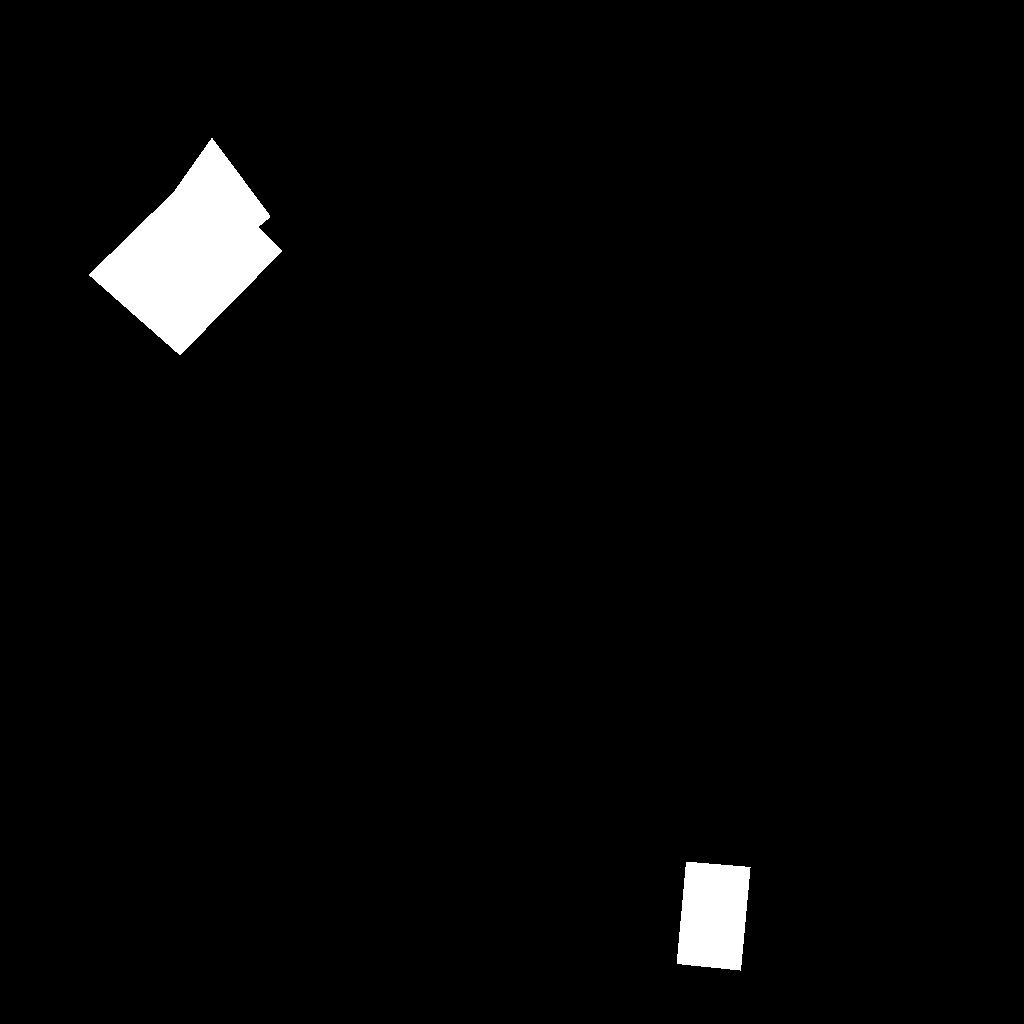building: (89, 138, 283, 356), (677, 862, 751, 971)
